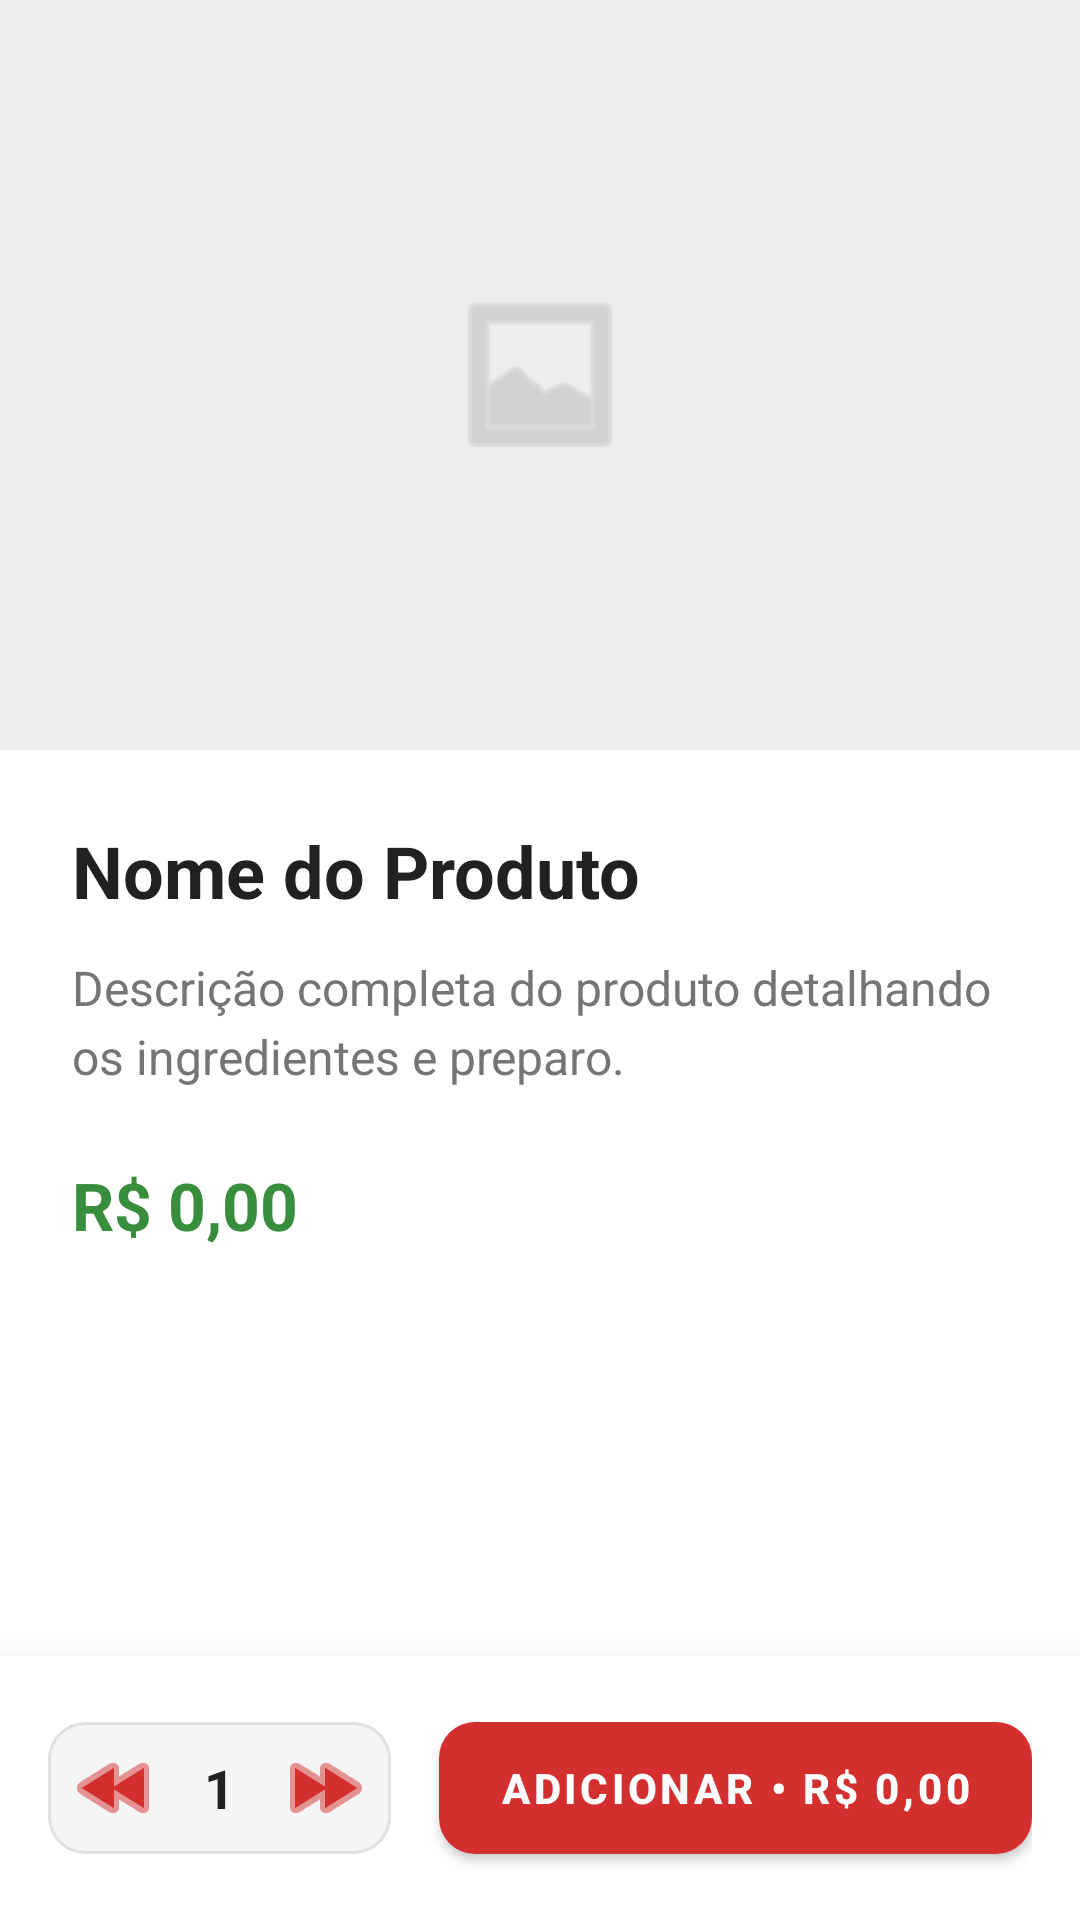

Named icons in this screenshot (1080*1920) and their bounding boxes, BBox(x1, y1, x2, y2):
gallery: BBox(472, 307, 608, 443)
rew: BBox(77, 1763, 149, 1813)
